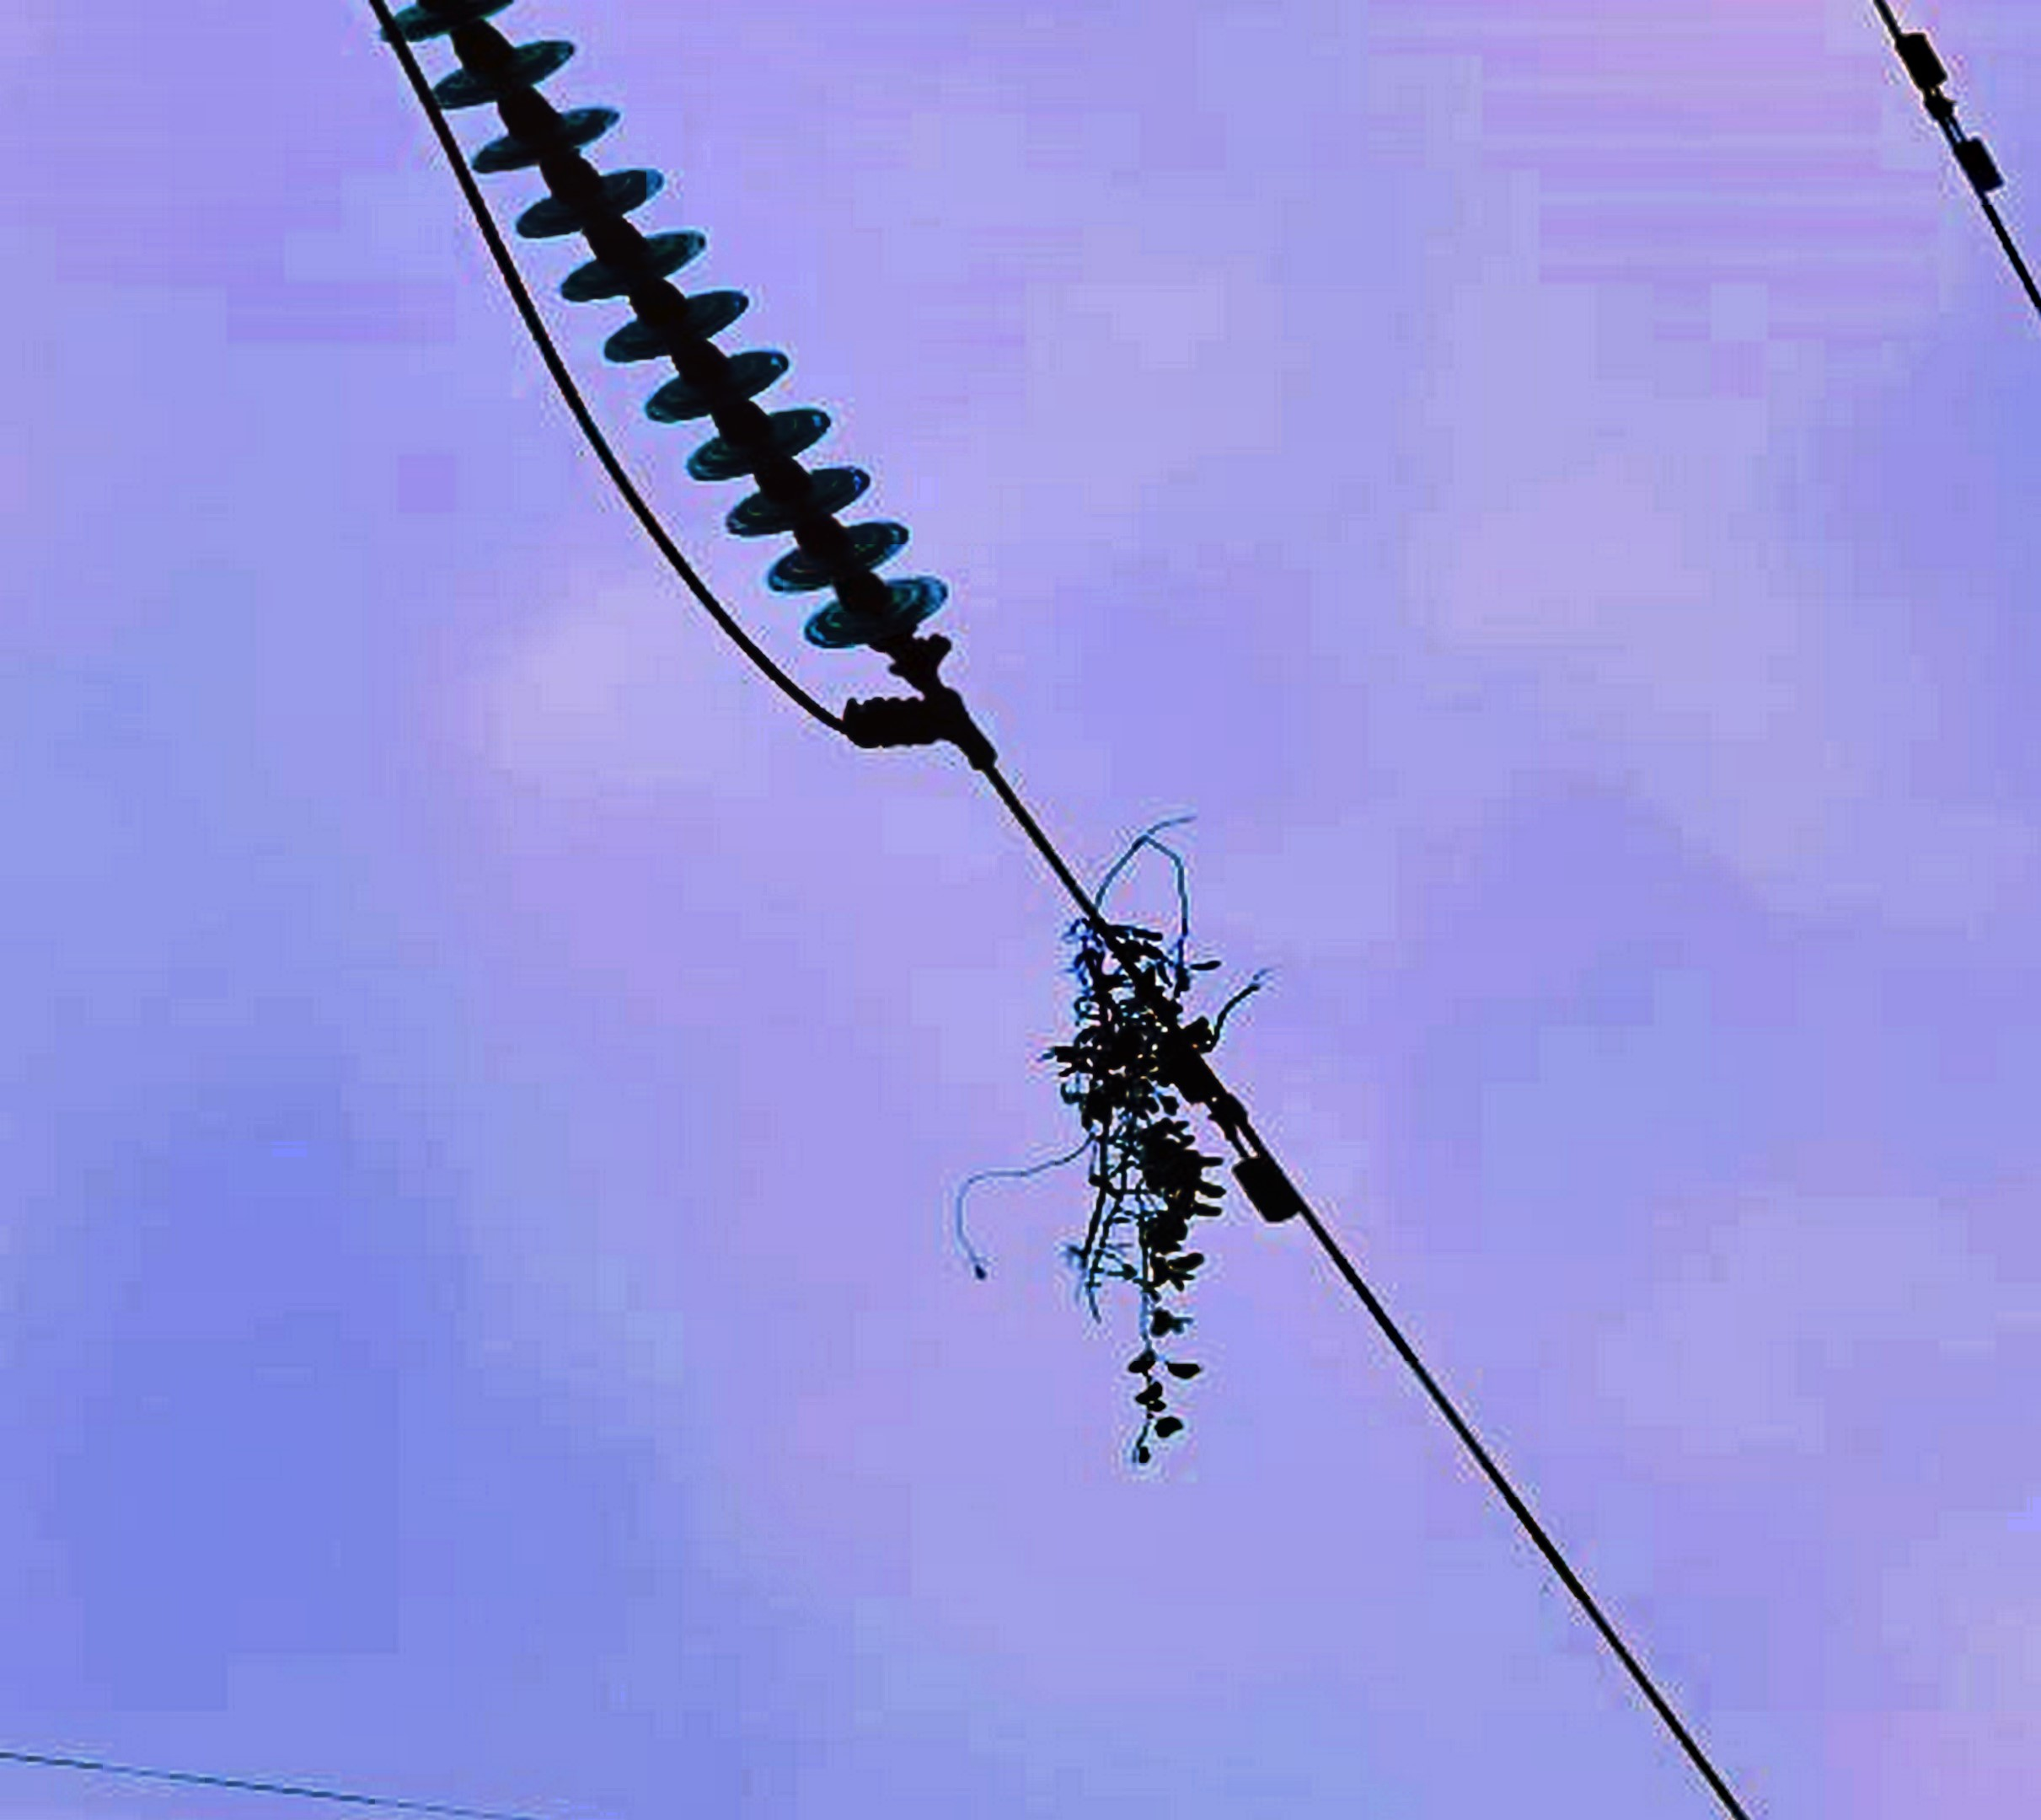wire foreign body: (933, 859, 1263, 1458)
